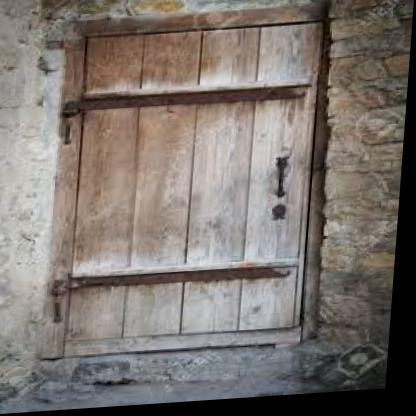door: (54, 13, 330, 357)
